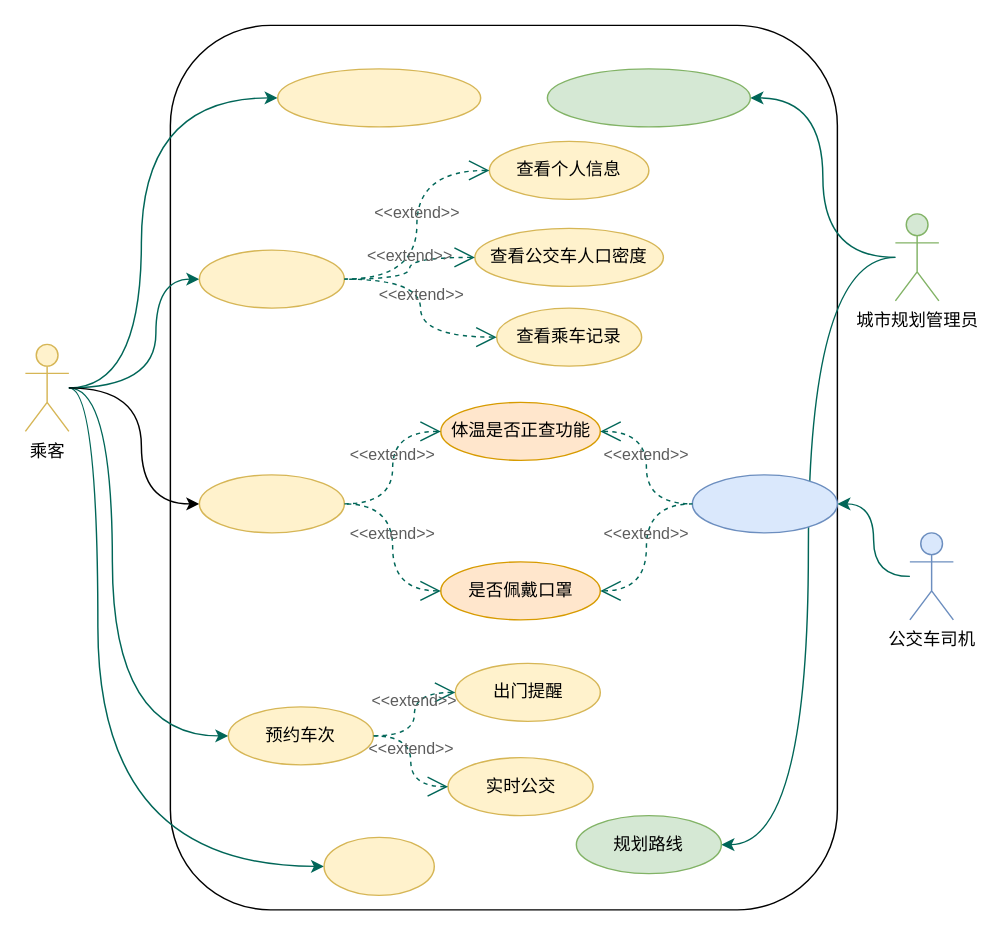
The diagram is 1003 pixels wide and 935 high, and some of its shapes have lost their labels. Here are the shapes that lost their labels. From the top down, the centre of each, then its label:
At pixel 378 97: "登陆/注册智能公交app".
At pixel 648 97: "管理/维护智能公交app".
At pixel 271 278: "信息查询".
At pixel 271 503: "检测乘客信息".
At pixel 764 503: "查看乘客信息".
At pixel 378 865: "支付".
